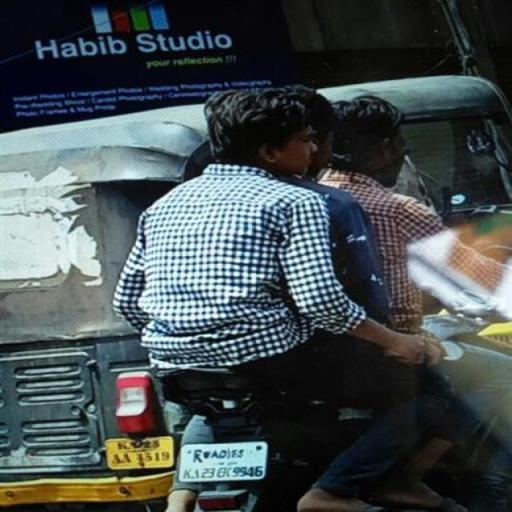tripple riding: (105, 78, 472, 367)
